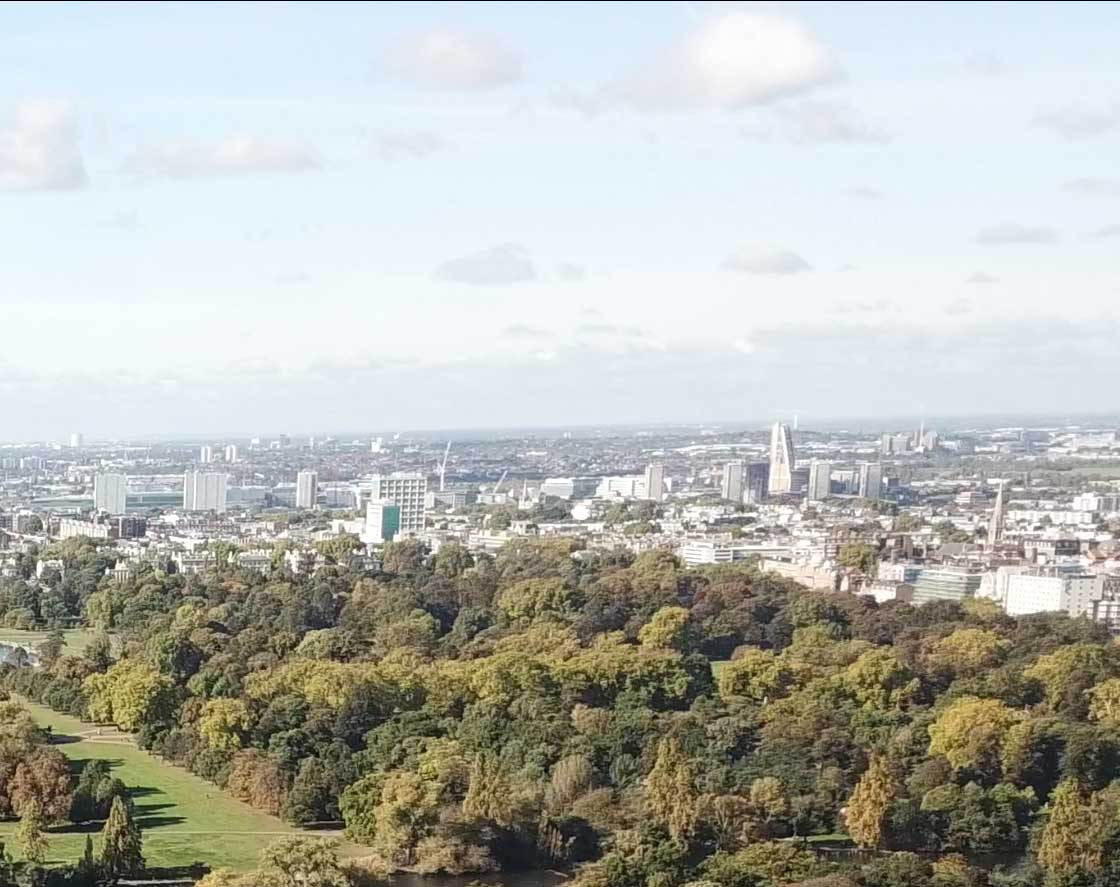trees: (190, 572, 1108, 873)
